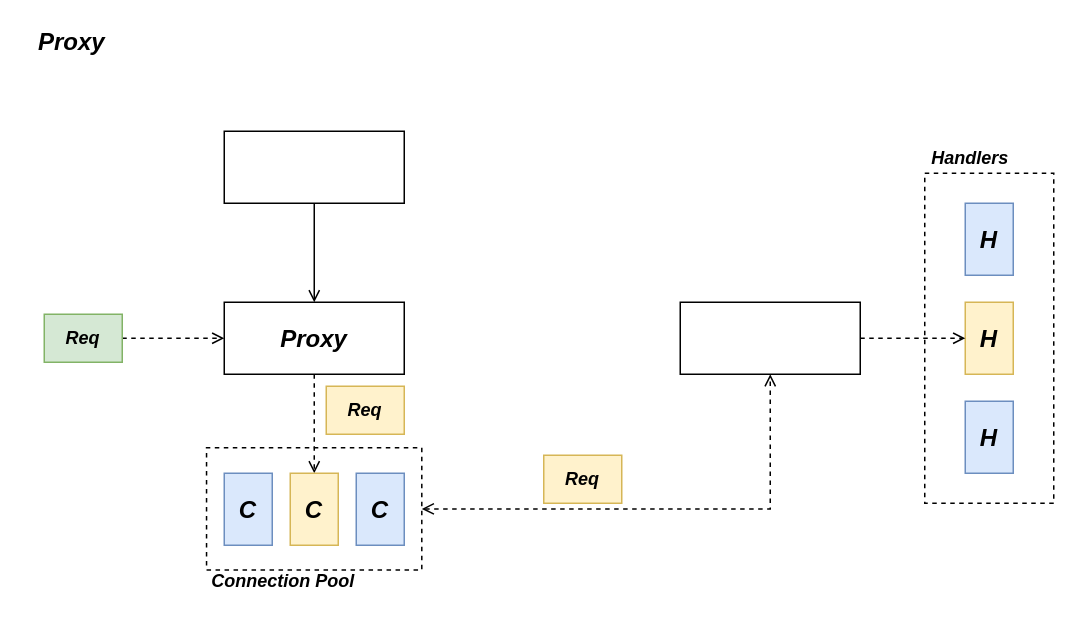
Image size: 1080x621. Some labels were removed from this diagram. The shapes that lost their labels are listed below. From the top down, each one's box as (x1, y1, x2, y2) in pixels, then its label:
(223, 130, 404, 203): Topic
(679, 301, 860, 374): Server
